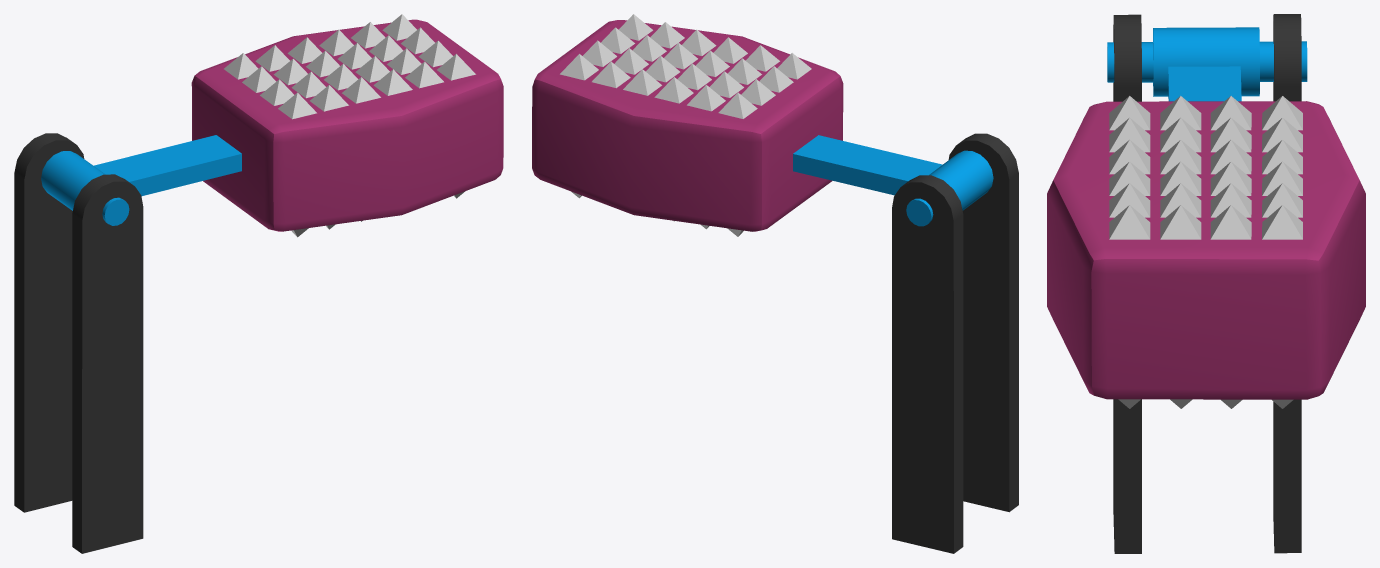
File: _rap_02.fbx
The picture shows the model from 3 angles, left to right: view 1: azimuth 30°, elevation 25°; view 2: azimuth 150°, elevation 25°; view 3: azimuth 270°, elevation 25°; orthographic projection. The views are drawn at different scales.
Parts seen in each view (by area): view 1: hammer_2, base_2; view 2: hammer_2, base_2; view 3: hammer_2, base_2.
Boxes of the visible parts, box(x1,y1,x2,y2) form: hammer_2: box(41, 14, 503, 237); base_2: box(14, 133, 143, 553); hammer_2: box(532, 14, 993, 236); base_2: box(892, 133, 1018, 553); hammer_2: box(1047, 27, 1365, 408); base_2: box(1107, 14, 1307, 553).
Bounding box in the file's own units: 2636 × 2427 × 1234.
